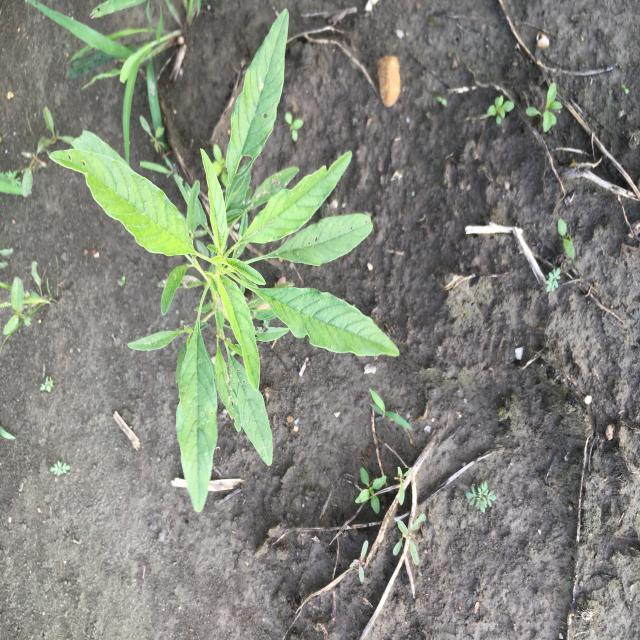Ragweed: (465, 479, 499, 515)
Waterhemp: (48, 7, 402, 514)
